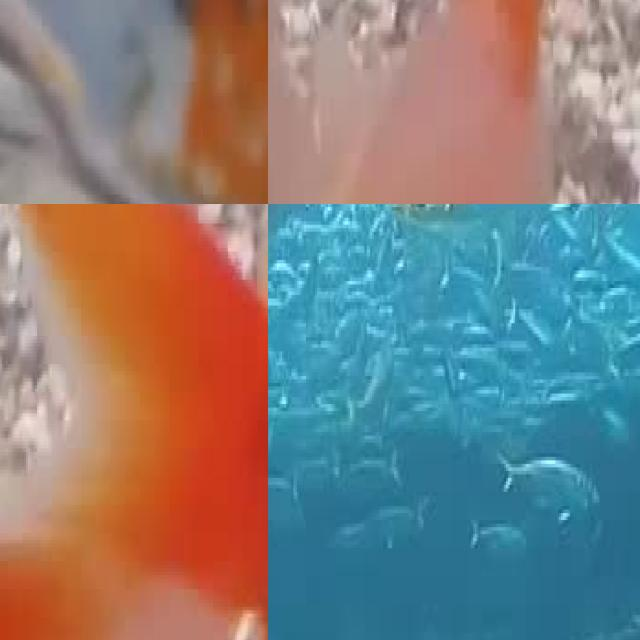fish: (268, 0, 582, 204), (0, 0, 268, 204), (0, 204, 112, 640)
